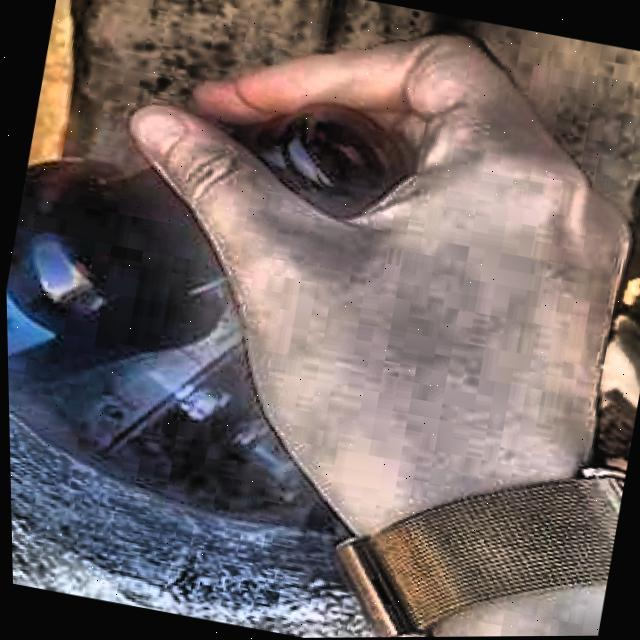glass: (5, 159, 229, 365), (233, 104, 410, 219)
